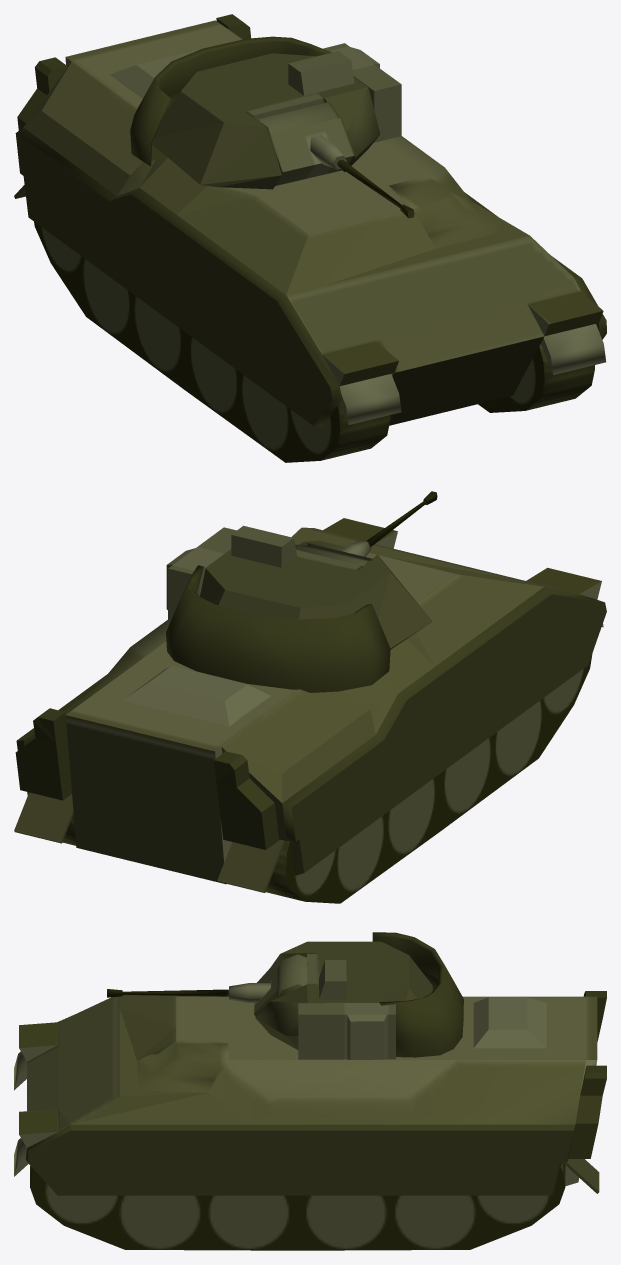
File: Bradley_Tank.DAE
3 views of the same model, one above another, from view 1: azimuth 30°, elevation 25°; view 2: azimuth 150°, elevation 25°; view 3: azimuth 270°, elevation 25° (orthographic). The views are drawn at different scales.
Visible parts, largest first — view 1: BradleyTank; view 2: BradleyTank; view 3: BradleyTank.
Part boxes in pixels (bbox=[...]): BradleyTank: bbox=[14, 14, 606, 462]; BradleyTank: bbox=[14, 491, 606, 903]; BradleyTank: bbox=[14, 932, 606, 1250].
Bounding box in the file's own units: 859 × 817 × 1844.
1 material, 1 textured.
